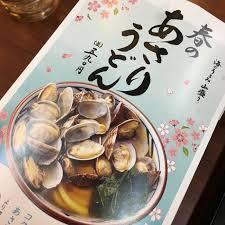asari: (6, 79, 171, 225)
